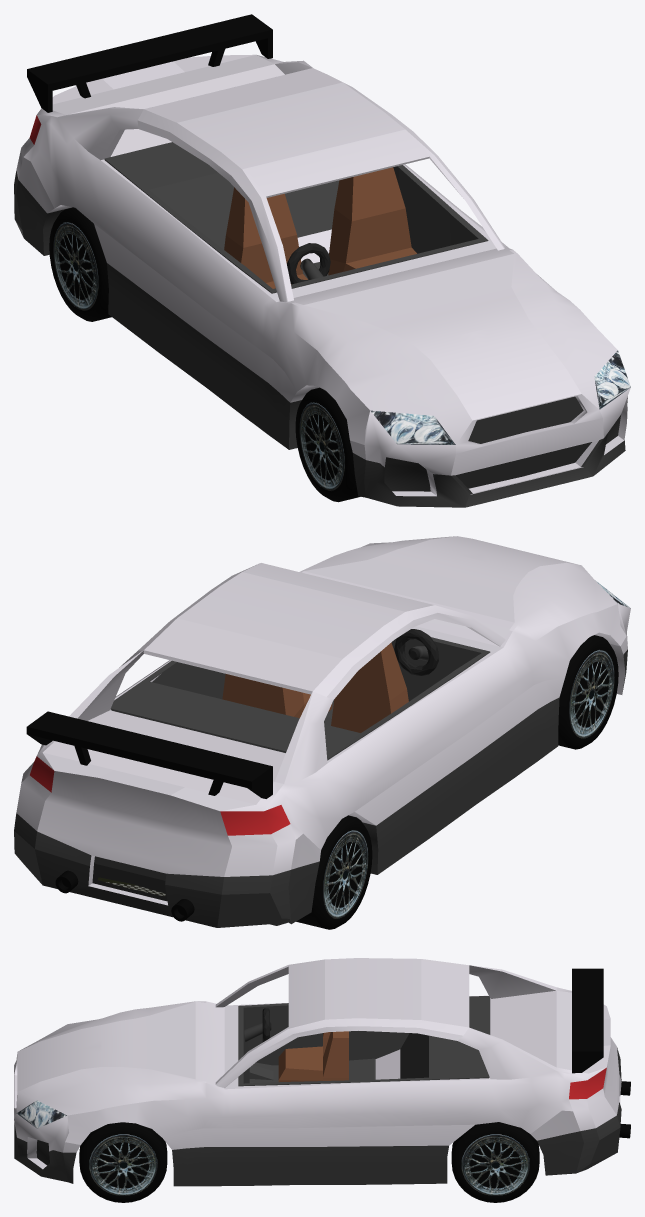
File: bbeeemer.fbx
The picture shows the model from 3 angles, top to bottom: view 1: azimuth 30°, elevation 25°; view 2: azimuth 150°, elevation 25°; view 3: azimuth 270°, elevation 25°; orthographic projection. The views are drawn at different scales.
Visible parts, largest first — view 1: bmw sedan, SPOILER, back_right.015, front_right.015, steeringwheel.003; view 2: bmw sedan, SPOILER, front_right.015, back_right.015, steeringwheel.003, exhaust.001; view 3: bmw sedan, front_left.015, back_left.015, SPOILER.
Boxes of the visible parts, <box> form: bmw sedan: <box>14,54,630,507</box>; SPOILER: <box>27,14,272,112</box>; back_right.015: <box>49,207,111,321</box>; front_right.015: <box>295,387,360,502</box>; steeringwheel.003: <box>287,243,330,284</box>; bmw sedan: <box>14,536,630,927</box>; SPOILER: <box>26,711,272,798</box>; front_right.015: <box>558,635,618,749</box>; back_right.015: <box>296,815,372,929</box>; steeringwheel.003: <box>394,629,438,675</box>; exhaust.001: <box>55,870,194,921</box>; bmw sedan: <box>14,958,621,1186</box>; front_left.015: <box>79,1122,167,1202</box>; back_left.015: <box>451,1122,539,1202</box>; SPOILER: <box>572,968,603,1073</box>.
Bounding box in the file's own units: 122 × 317 × 94.76.
